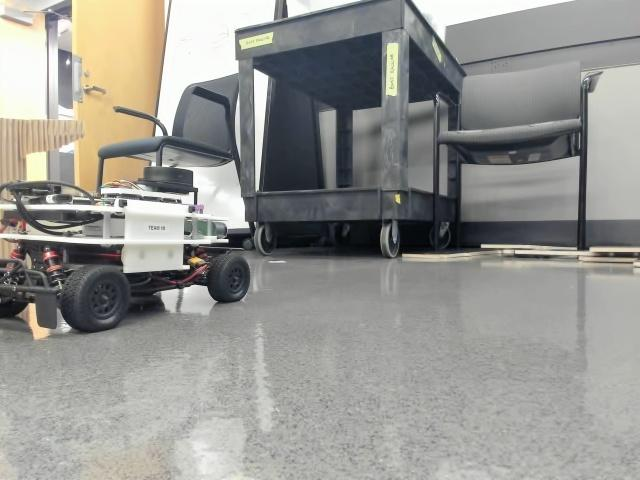Car: (0, 166, 251, 331)
